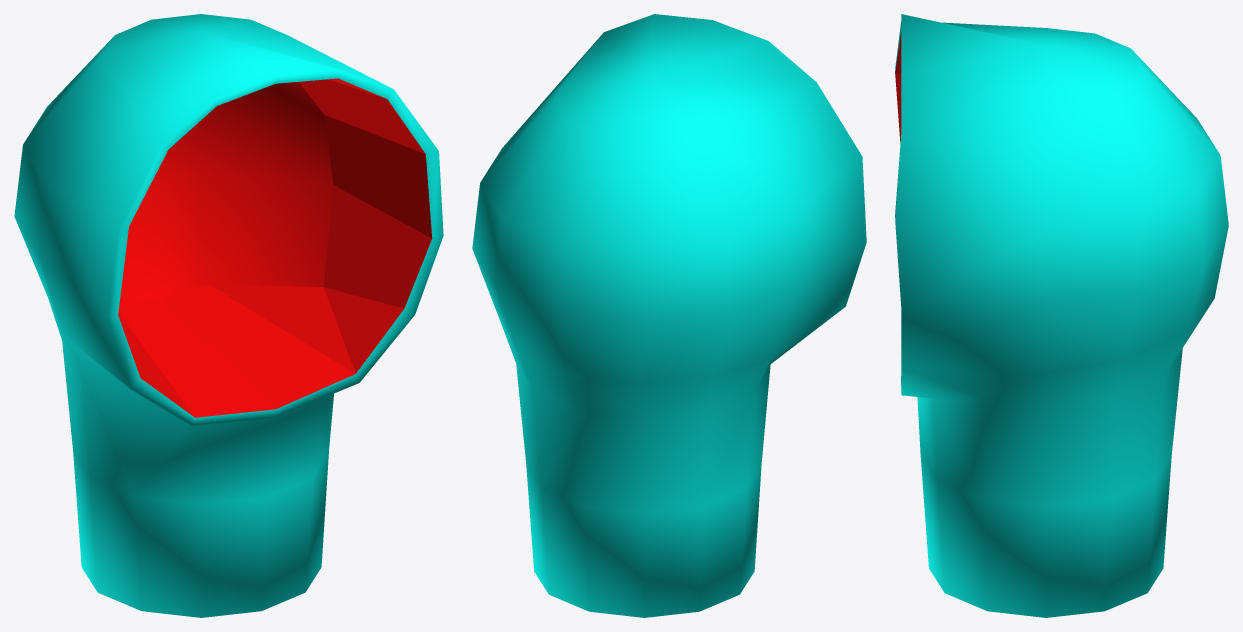
Rendered from Couch.FBX.
The picture shows the model from 3 angles, left to right: view 1: azimuth 30°, elevation 25°; view 2: azimuth 150°, elevation 25°; view 3: azimuth 270°, elevation 25°; orthographic projection. The views are drawn at different scales.
Visible parts, largest first — view 1: Couch; view 2: Couch; view 3: Couch.
Part boxes in pixels (x1,y1,x2,y2): Couch: [14, 14, 443, 617]; Couch: [472, 14, 866, 617]; Couch: [895, 14, 1228, 617].
Bounding box in the file's own units: 208 × 323 × 184.
